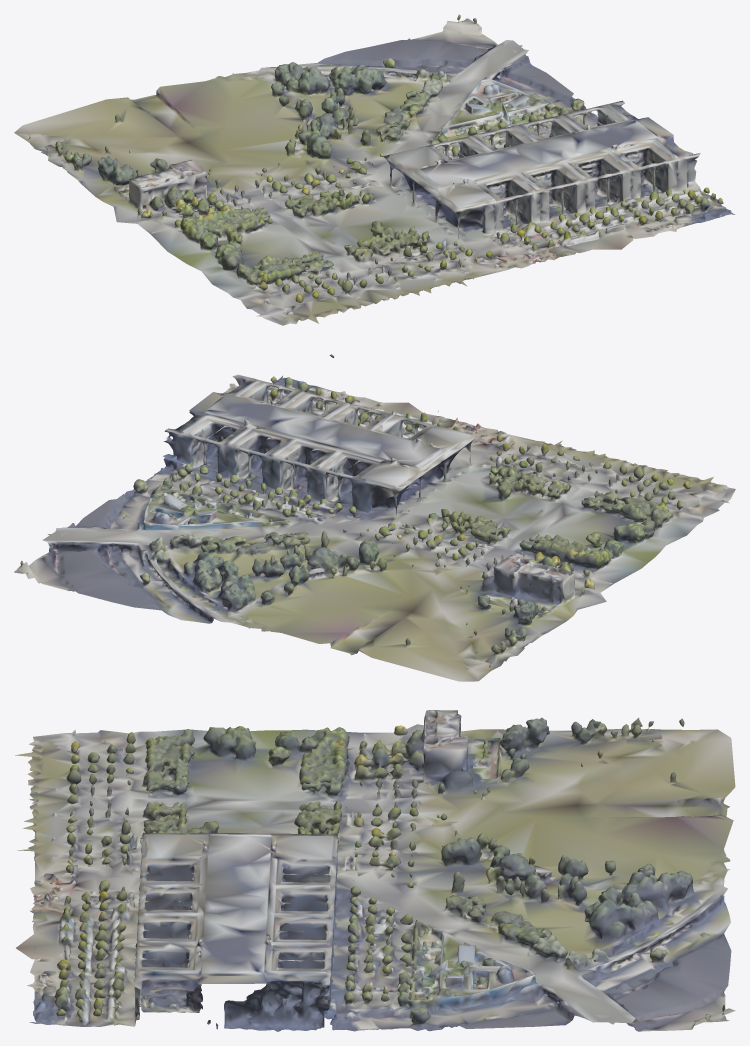
Rendered from tile-3894_58200.glb.
The picture shows the model from 3 angles, top to bottom: view 1: azimuth 30°, elevation 25°; view 2: azimuth 150°, elevation 25°; view 3: azimuth 270°, elevation 25°; orthographic projection. The views are drawn at different scales.
Visible parts, largest first — view 1: world; view 2: world; view 3: world.
Boxes of the visible parts, bbox=[...] form: world: bbox=[14, 14, 735, 325]; world: bbox=[14, 354, 735, 681]; world: bbox=[15, 710, 735, 1031].
Size of the model in its own units: 379 by 32.95 by 378.
